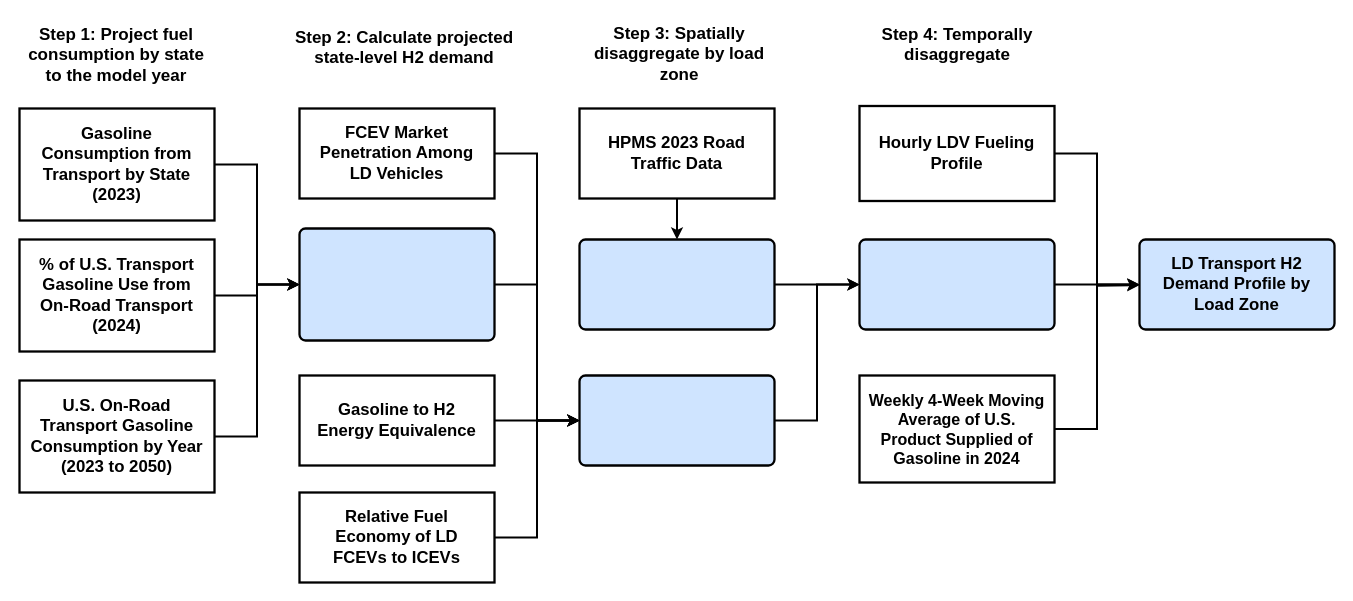
Some shapes in this 1353 by 601 pixel diagram are drawn without their labels. The centre of each missing label's shape, as x and y in pixels:
"LD VMT by Load Zone Region within Each State" belongs at pixel 676 284.
"Projected LD Transport H2 Demand by Load Zone" belongs at pixel 956 284.
"Projected LD Transport H2 Demand by State" belongs at pixel 676 420.
"Projected State-level Gasoline Consumption from LD Transport" belongs at pixel 396 284.
